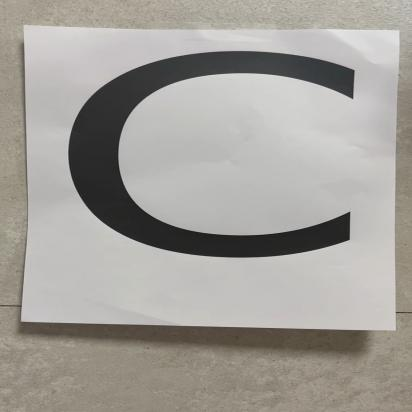seat: (30, 27, 399, 325)
